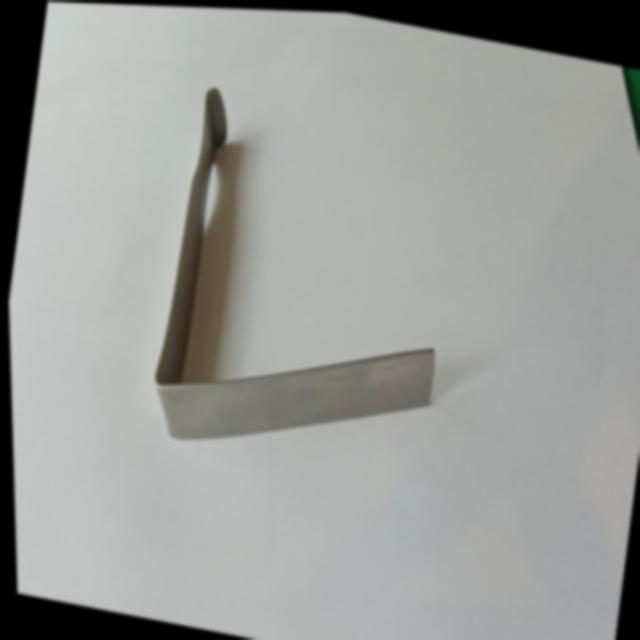AustinRetractor: (128, 66, 476, 497)
